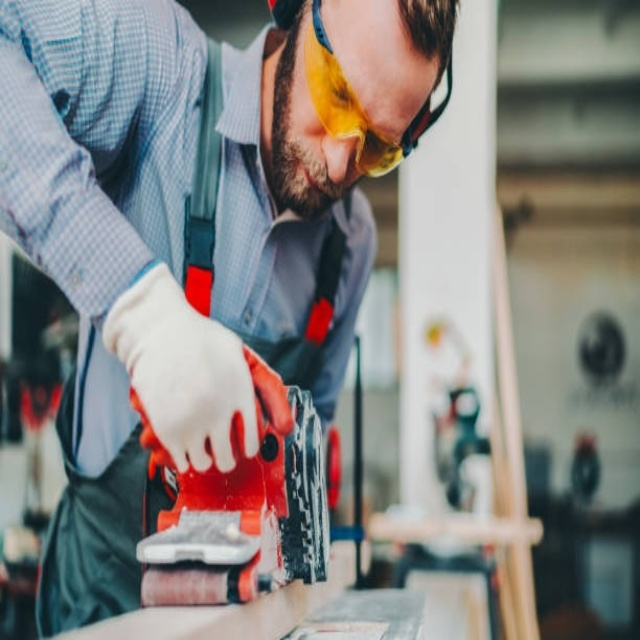Gafas: (305, 5, 408, 182)
Guantes: (101, 259, 277, 476)
Sin_mascara: (276, 143, 336, 216)
